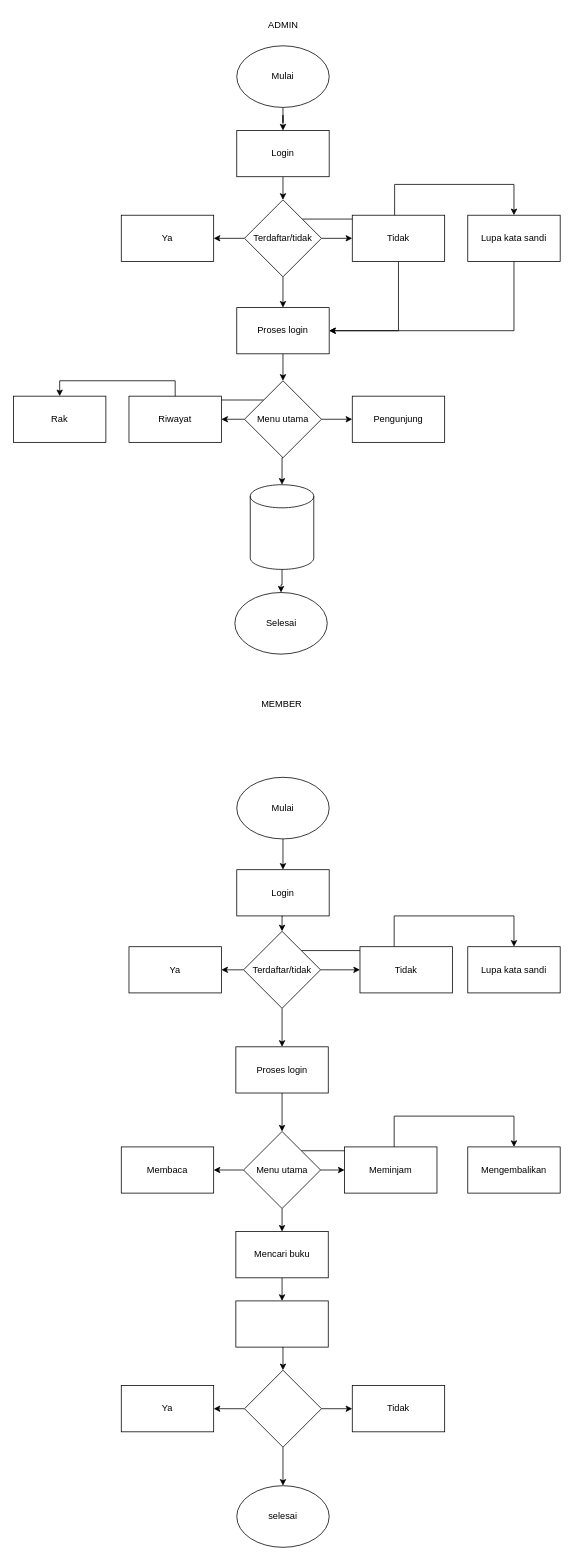
The diagram is 574 pixels wide and 1561 high, and some of its shapes have lost their labels. Each missing label, with the centre of its shape:
"Data base" goes at (281,526).
"Hasil pencarian" goes at (281,1323).
"Pilih buku" goes at (282,1408).
